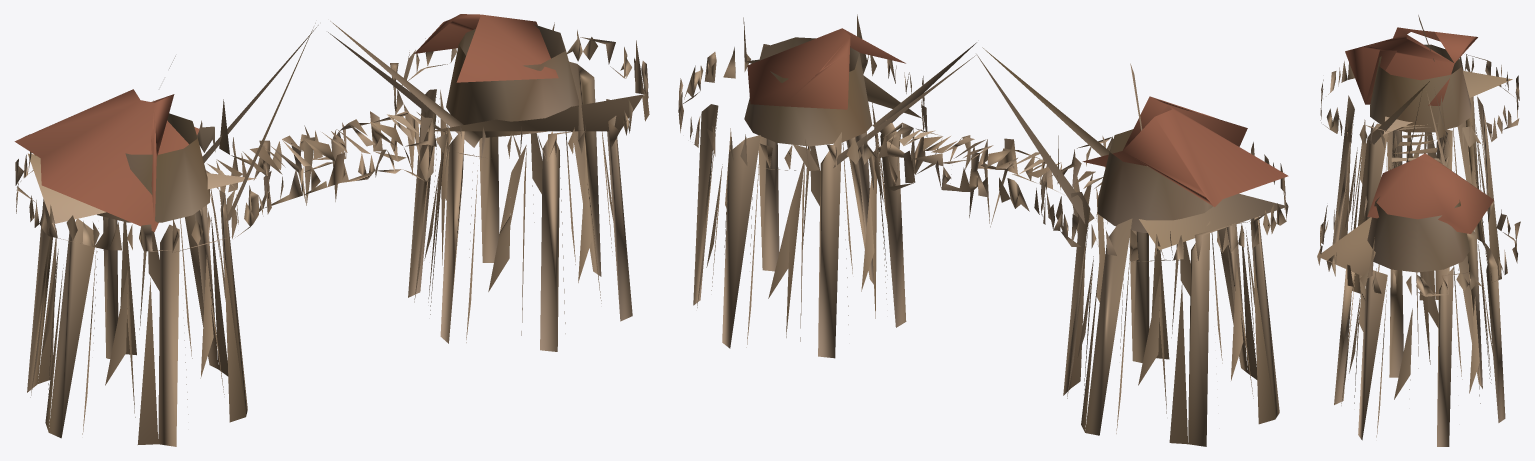
The model's file is portal_puas_lejos.glb.
3 views of the same model, side by side, from view 1: azimuth 30°, elevation 25°; view 2: azimuth 150°, elevation 25°; view 3: azimuth 270°, elevation 25° (orthographic). The views are drawn at different scales.
Parts seen in each view (by area): view 1: portal_puas_lejos; view 2: portal_puas_lejos; view 3: portal_puas_lejos.
Boxes of the visible parts, bbox=[...] form: portal_puas_lejos: bbox=[14, 14, 649, 446]; portal_puas_lejos: bbox=[678, 14, 1288, 446]; portal_puas_lejos: bbox=[1317, 15, 1520, 446].
Bounding box in the file's own units: 7.87 × 4.27 × 2.94.
